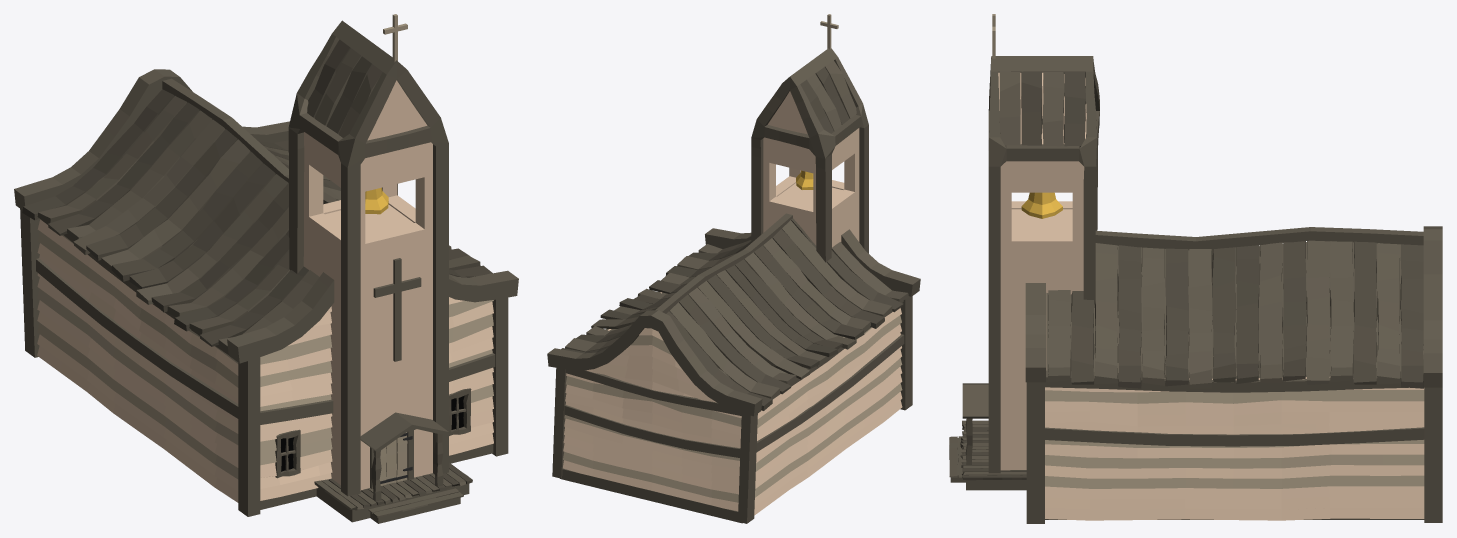
The model's file is BuildingChurch.fbx.
3 views of the same model, side by side, from view 1: azimuth 30°, elevation 25°; view 2: azimuth 150°, elevation 25°; view 3: azimuth 270°, elevation 25° (orthographic). The views are drawn at different scales.
Parts seen in each view (by area): view 1: Cube.008; view 2: Cube.008; view 3: Cube.008.
Part boxes in pixels (left/top/right/bottom): Cube.008: left=14, top=14, right=518, bottom=523; Cube.008: left=547, top=14, right=920, bottom=523; Cube.008: left=949, top=14, right=1442, bottom=523.
Size of the model in its own units: 923 by 1498 by 1489.
